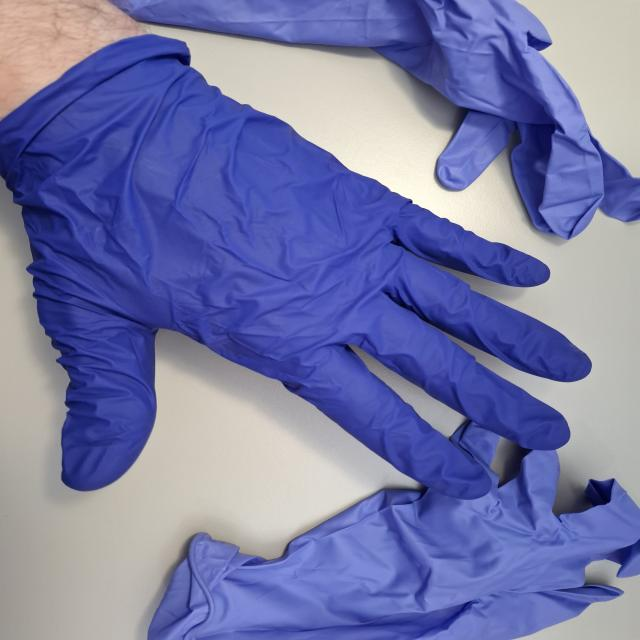glove_on: (0, 29, 600, 506)
